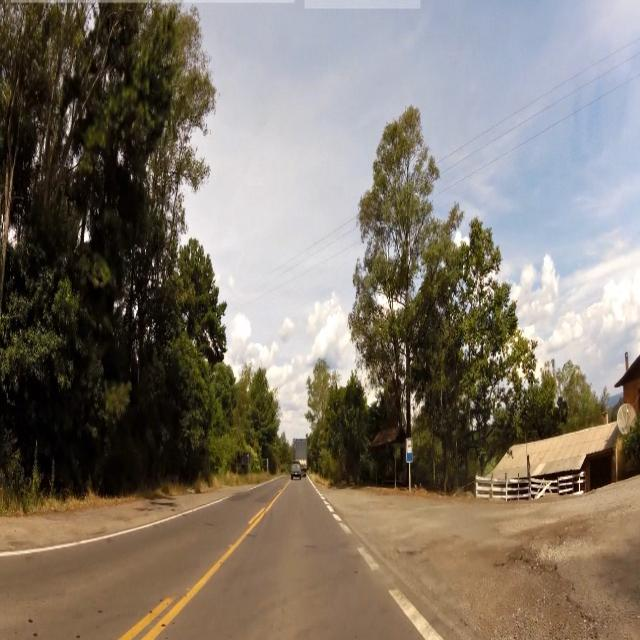S-14: (406, 439, 414, 462)
